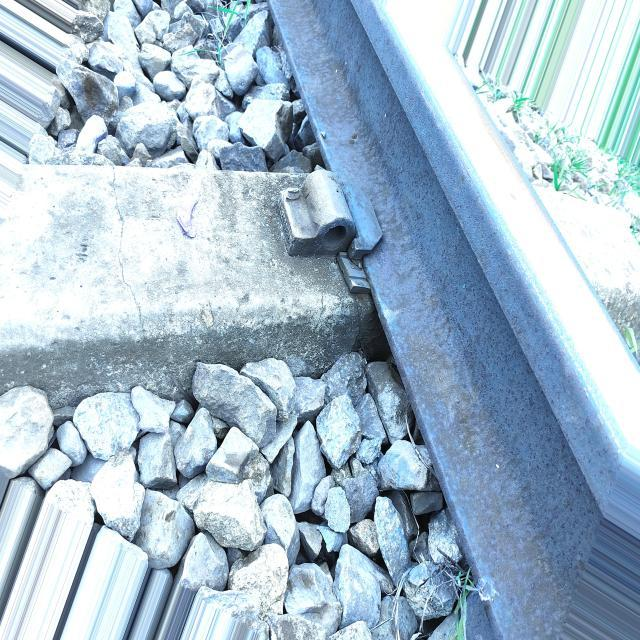Missing Fastener: (257, 162, 392, 285)
